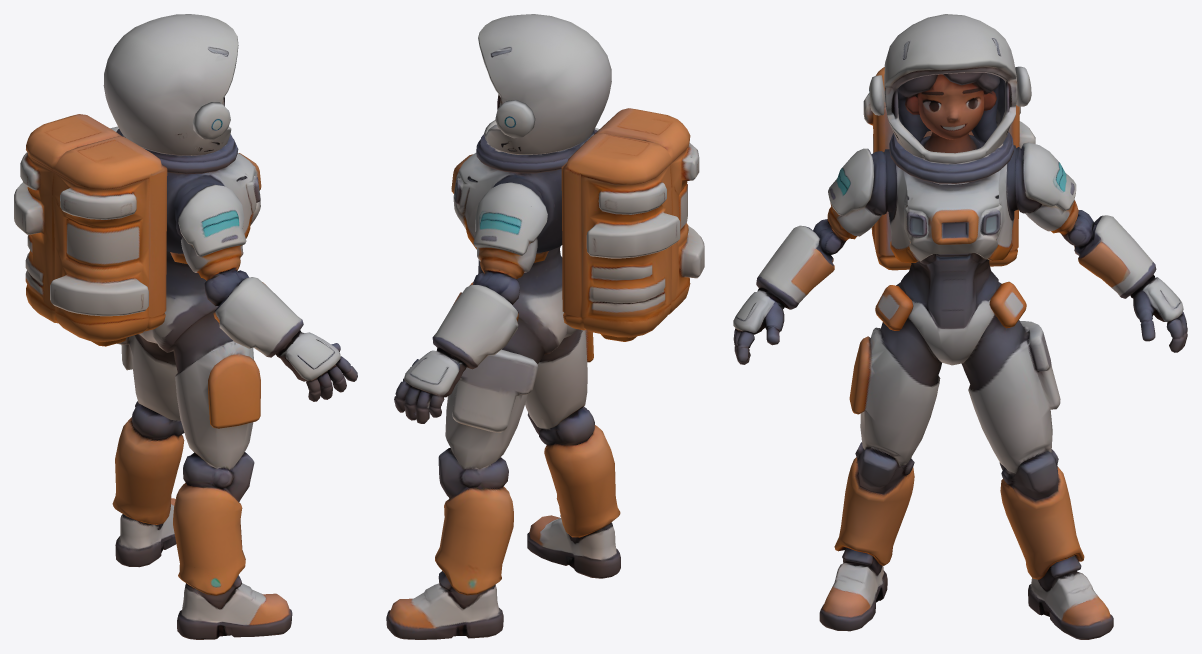
Rendered from astronaut.glb.
The picture shows the model from 3 angles, left to right: view 1: azimuth 30°, elevation 25°; view 2: azimuth 150°, elevation 25°; view 3: azimuth 270°, elevation 25°; orthographic projection.
Parts seen in each view (by area): view 1: tripo_node_0fc6acc3-ad5b-4db7-a7d1-e87b6de31956; view 2: tripo_node_0fc6acc3-ad5b-4db7-a7d1-e87b6de31956; view 3: tripo_node_0fc6acc3-ad5b-4db7-a7d1-e87b6de31956.
Part boxes in pixels (box(x1,y1,x2,y2)): tripo_node_0fc6acc3-ad5b-4db7-a7d1-e87b6de31956: box(14, 14, 357, 639); tripo_node_0fc6acc3-ad5b-4db7-a7d1-e87b6de31956: box(386, 14, 704, 639); tripo_node_0fc6acc3-ad5b-4db7-a7d1-e87b6de31956: box(733, 14, 1187, 639).
Size of the model in its own units: 0.4146 by 0.9995 by 0.7085.
Materials: 1 (1 with a texture image).
